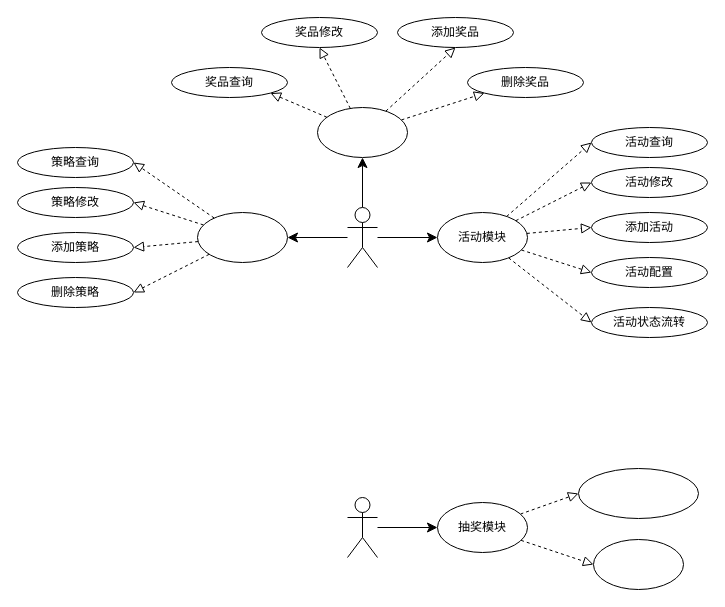
Some shapes in this 725 by 607 pixel diagram are drawn without their labels. Here are the shapes that lost their labels. From the top down, the centre of each, then its label:
At pixel 362 132: "奖品模块".
At pixel 242 237: "策略模块".
At pixel 362 237: "运营人员".
At pixel 638 493: "PC端活动页抽奖".
At pixel 362 527: "C端用户".
At pixel 638 564: "微信公众号抽奖".
